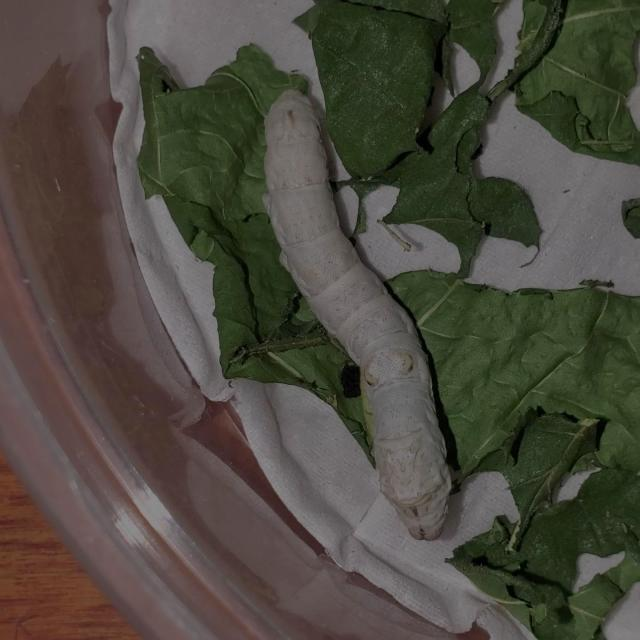Healthy: (228, 64, 513, 573)
